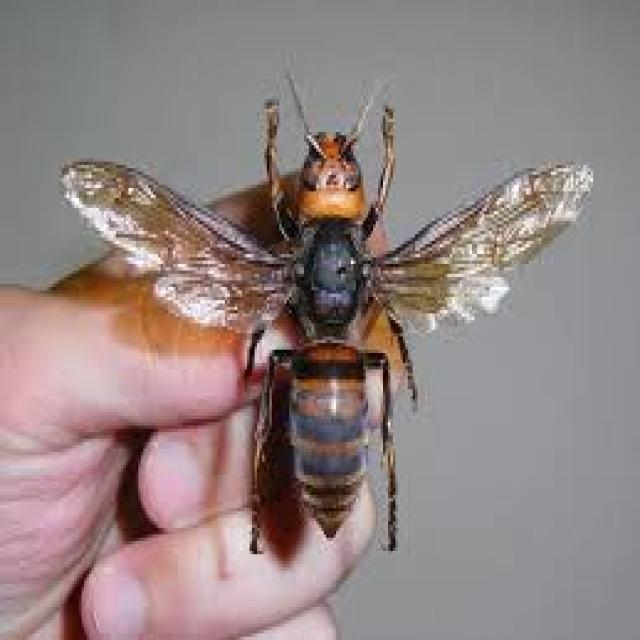Wasp: (53, 82, 592, 551)
